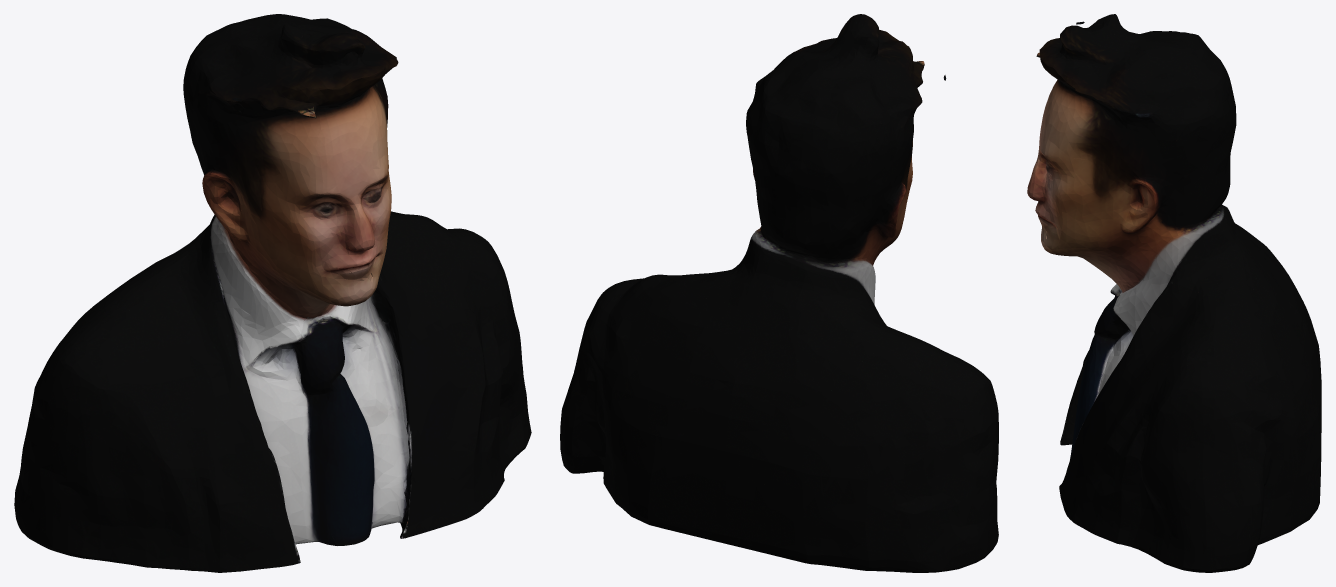
3 renders of one model, left to right at view 1: azimuth 30°, elevation 25°; view 2: azimuth 150°, elevation 25°; view 3: azimuth 270°, elevation 25°, orthographic. The views are drawn at different scales.
Parts seen in each view (by area): view 1: world; view 2: world; view 3: world.
Part boxes in pixels (x1,y1,x2,y2): world: (14, 14, 531, 572); world: (560, 14, 998, 572); world: (1027, 14, 1321, 572).
Size of the model in its own units: 0.9995 by 1 by 0.6092.
Materials: 1 (1 with a texture image).
